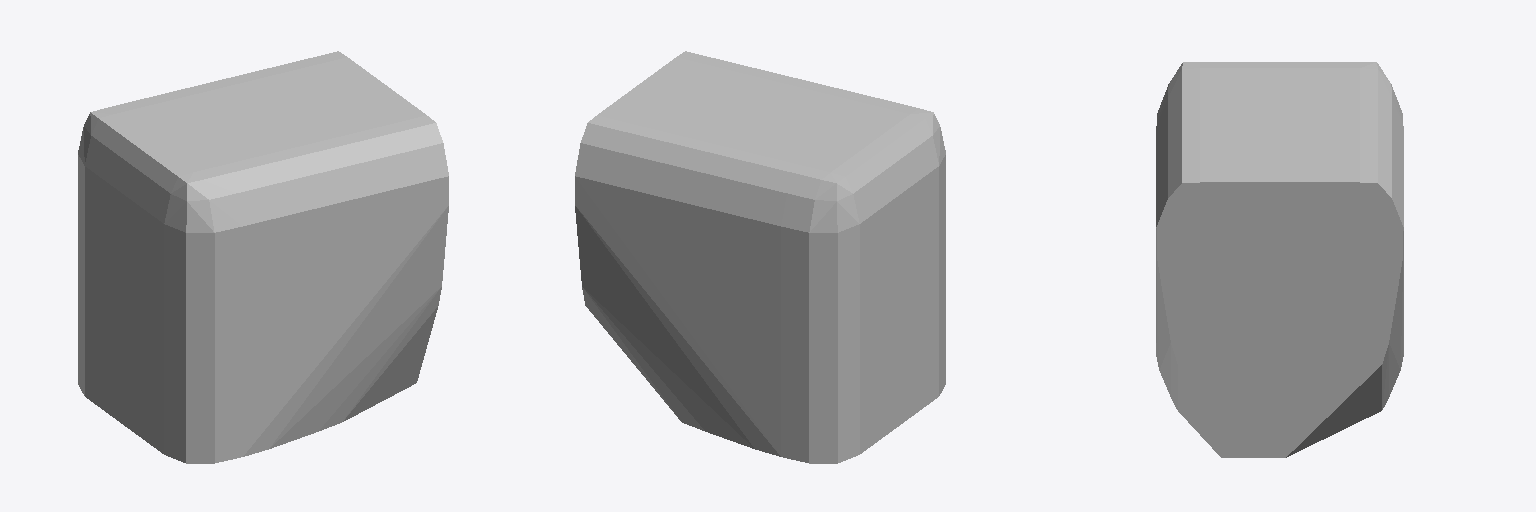
The model's file is Window_Slider_48x36_collision_16.obj.
3 renders of one model, left to right at view 1: azimuth 30°, elevation 25°; view 2: azimuth 150°, elevation 25°; view 3: azimuth 270°, elevation 25°, orthographic.
Size of the model in its own units: 0.1164 by 0.1164 by 0.0947.